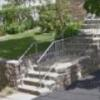stairs: (14, 55, 68, 99)
